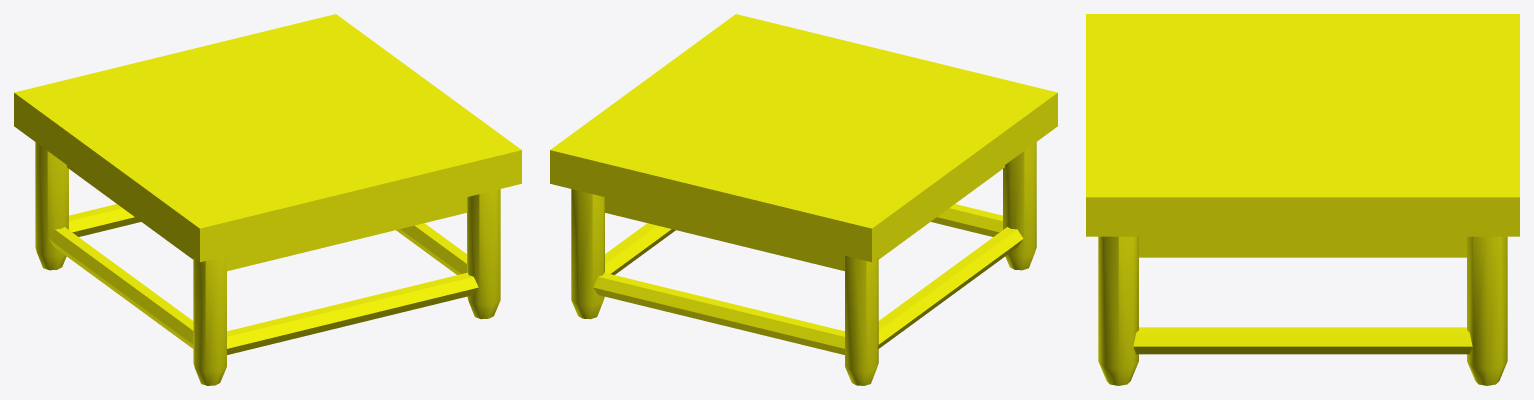
File: kaykit-kitchentable-b.glb
The picture shows the model from 3 angles, left to right: view 1: azimuth 30°, elevation 25°; view 2: azimuth 150°, elevation 25°; view 3: azimuth 270°, elevation 25°; orthographic projection. The views are drawn at different scales.
Visible parts, largest first — view 1: kitchentable_B; view 2: kitchentable_B; view 3: kitchentable_B.
Part boxes in pixels (x1=…): kitchentable_B: x1=14, y1=14, x2=521, y2=385; kitchentable_B: x1=550, y1=14, x2=1057, y2=385; kitchentable_B: x1=1086, y1=14, x2=1519, y2=385.
Size of the model in its own units: 2 by 1 by 2.
